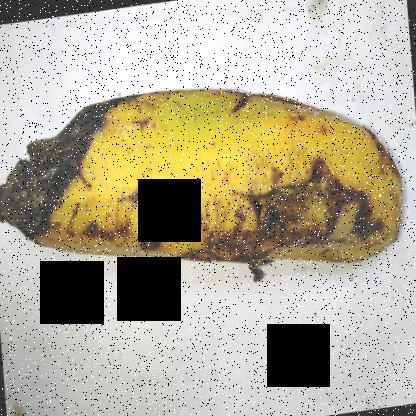ripe: (100, 84, 415, 289)
rotten: (182, 156, 398, 304), (1, 56, 134, 273)
